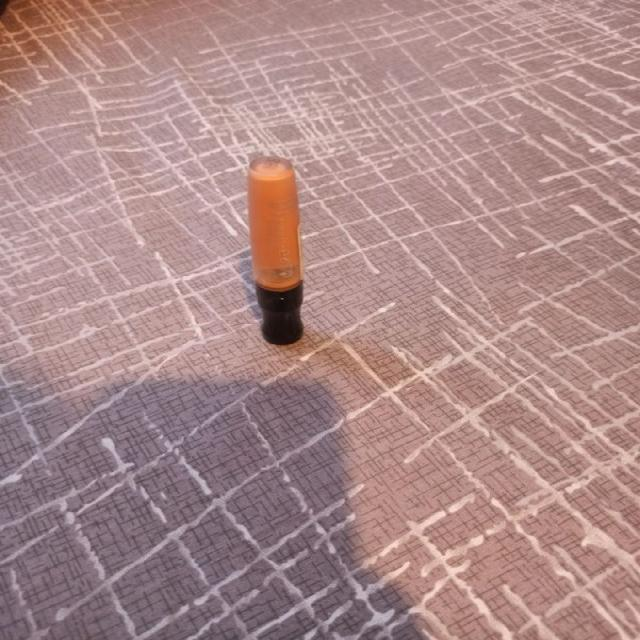lipstick: (246, 155, 303, 345)
